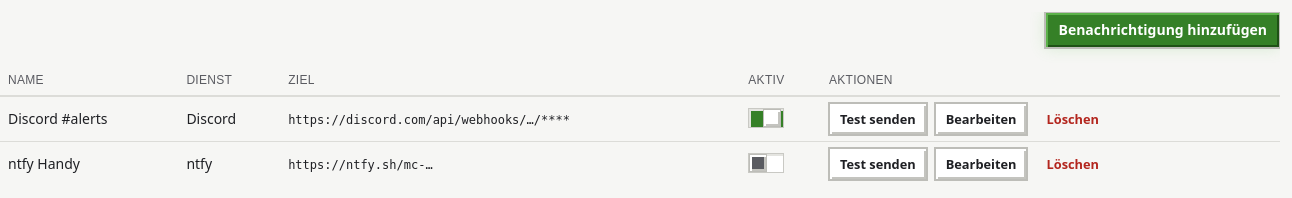
Test: NotifiersTab › shows the delivery error of a failed test message
What coordinates should you click on to do the following:
click the button with aria-label "Testnachricht an ntfy Handy senden"
I would click on:
 (878, 164)
Its box is [829,148,927,180].
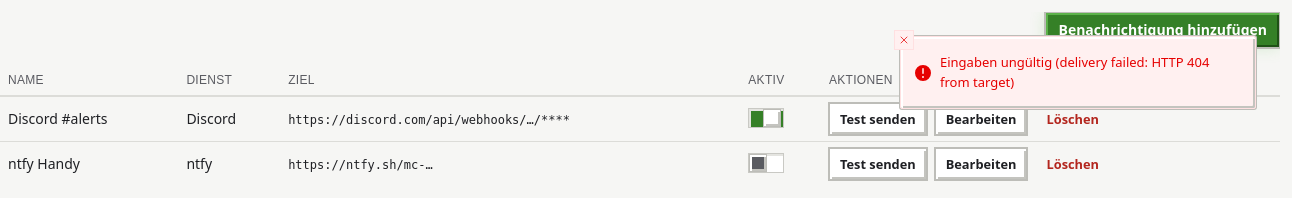
Now the text "Eingaben ungültig (delivery failed: HTTP 404 from target)" is shown, box [940,53,1239,92]
